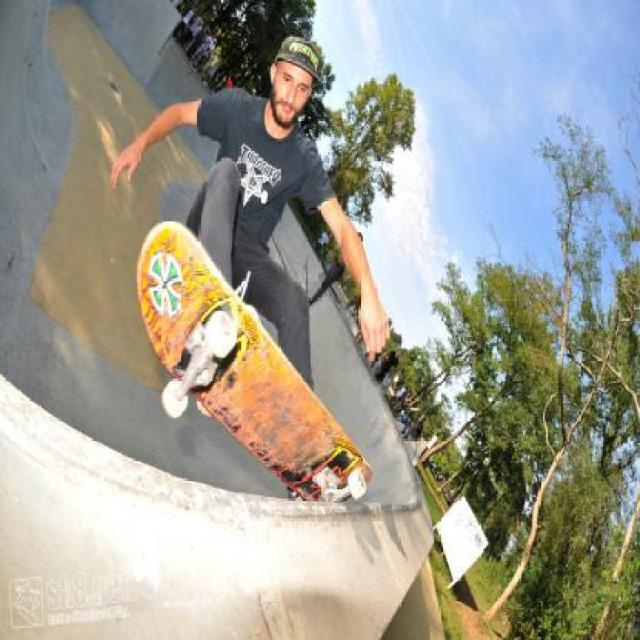Person: (165, 76, 361, 438)
